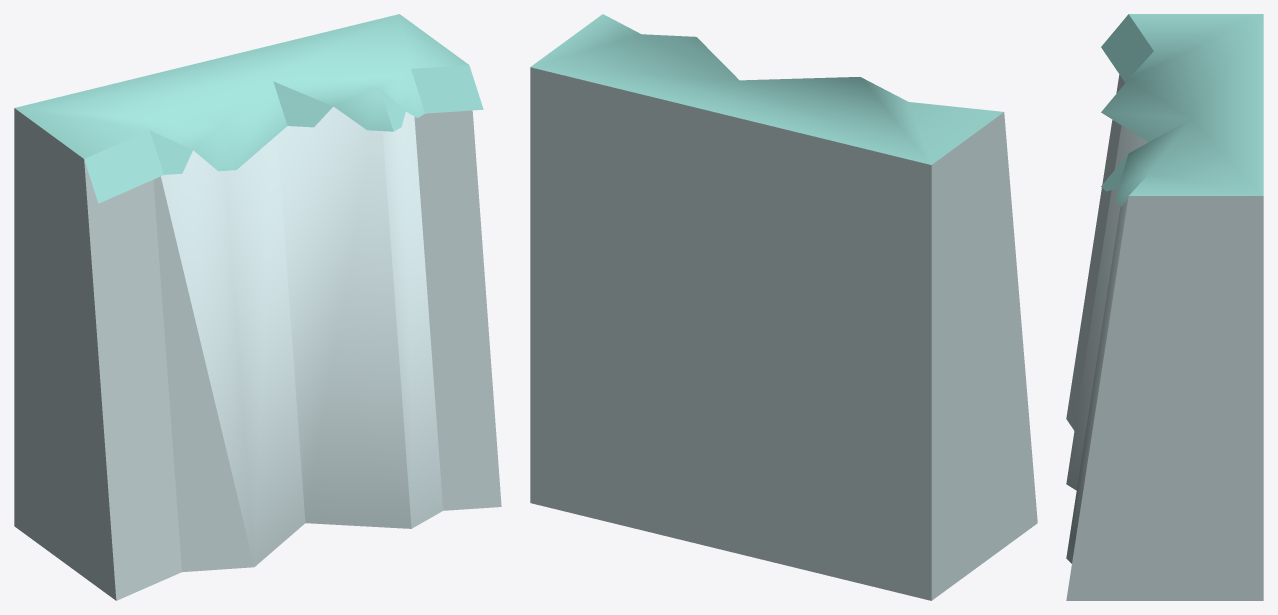
Rendered from cliffGrey_top_2.gltf.
3 renders of one model, left to right at view 1: azimuth 30°, elevation 25°; view 2: azimuth 150°, elevation 25°; view 3: azimuth 270°, elevation 25°, orthographic. The views are drawn at different scales.
Parts seen in each view (by area): view 1: cliffGrey_top; view 2: cliffGrey_top; view 3: cliffGrey_top.
Boxes of the visible parts, x1=… form: cliffGrey_top: x1=14, y1=14, x2=501, y2=600; cliffGrey_top: x1=530, y1=14, x2=1037, y2=600; cliffGrey_top: x1=1066, y1=14, x2=1263, y2=600.
Size of the model in its own units: 0.9972 by 1.03 by 0.4571.
